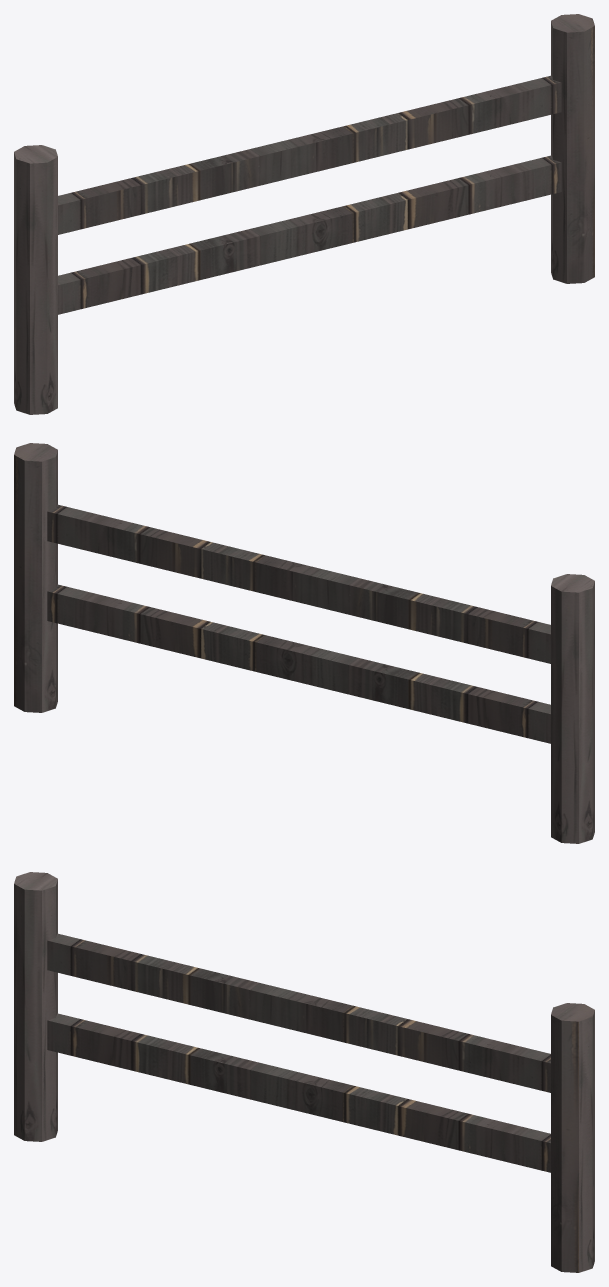
File: fence_wood.gltf
3 views of the same model, one above another, from view 1: azimuth 30°, elevation 25°; view 2: azimuth 150°, elevation 25°; view 3: azimuth 330°, elevation 25° (orthographic).
Visible parts, largest first — view 1: fence_wood; view 2: fence_wood; view 3: fence_wood.
Boxes of the visible parts, box(x1,y1,x2,y2) form: fence_wood: box(14, 14, 594, 414); fence_wood: box(14, 443, 594, 843); fence_wood: box(14, 872, 594, 1272).
Bounding box in the file's own units: 2.04 × 0.85 × 0.14.
Materials: 1 (1 with a texture image).
